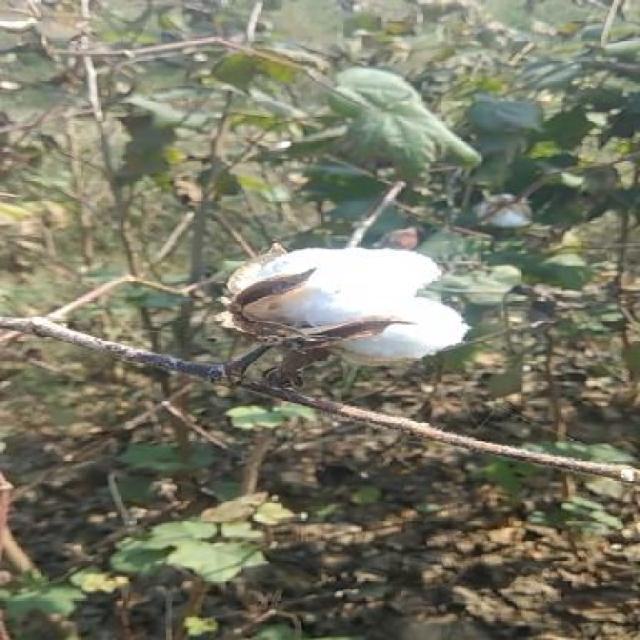cotton_ready: (223, 234, 472, 420)
